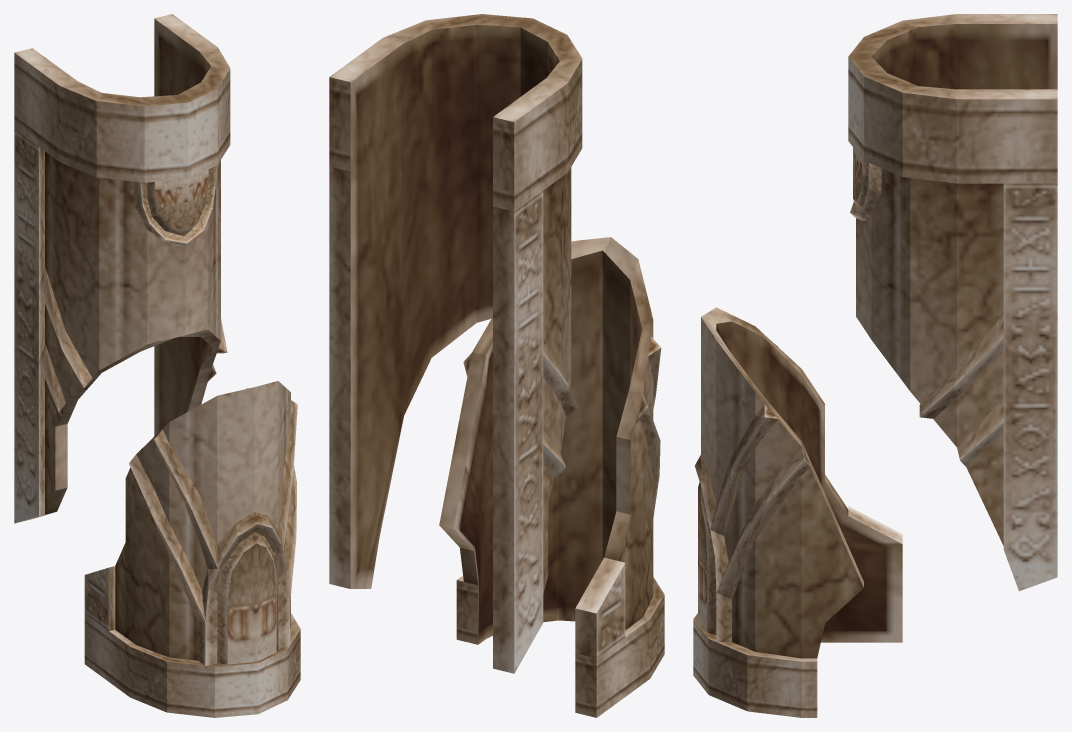
The picture shows the model from 3 angles, left to right: view 1: azimuth 30°, elevation 25°; view 2: azimuth 150°, elevation 25°; view 3: azimuth 270°, elevation 25°; orthographic projection. The views are drawn at different scales.
Visible parts, largest first — view 1: B_0004_2a_0; view 2: B_0004_2a_0; view 3: B_0004_2a_0.
Part boxes in pixels (<box>): B_0004_2a_0: <box>14,14,300,717</box>; B_0004_2a_0: <box>329,14,664,717</box>; B_0004_2a_0: <box>693,14,1057,717</box>.
Bounding box in the file's own units: 1.17 × 3.96 × 2.11.
Materials: 1 (1 with a texture image).
